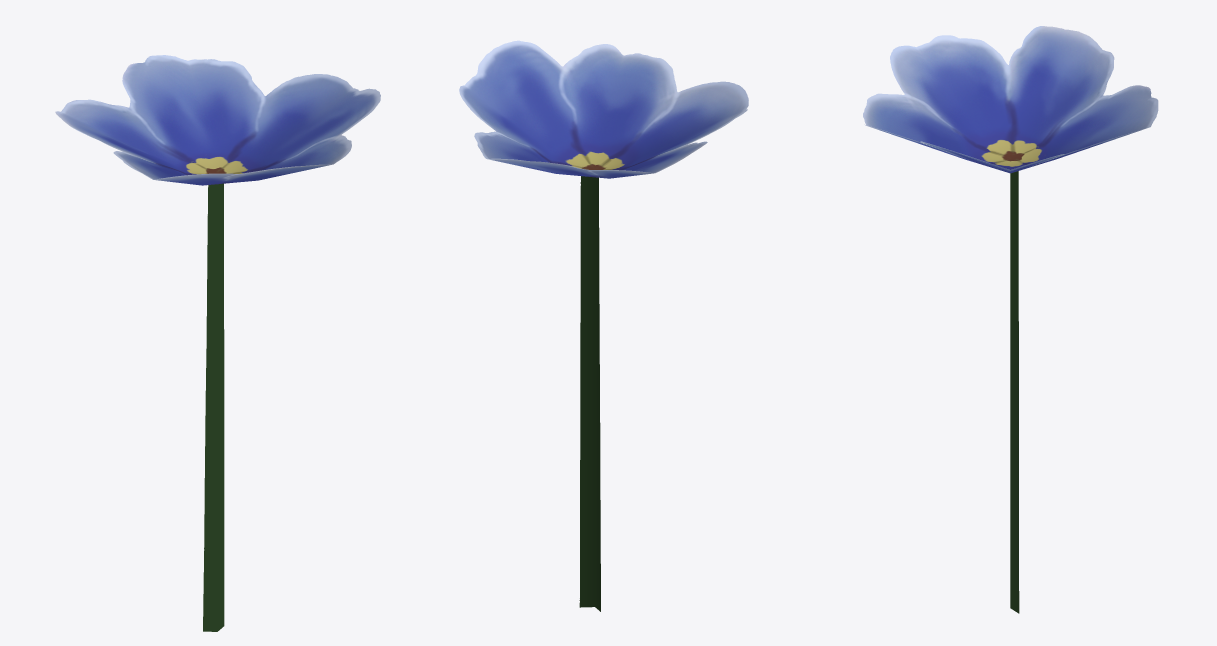
The model's file is Flower_Blue.fbx.
3 renders of one model, left to right at view 1: azimuth 30°, elevation 25°; view 2: azimuth 150°, elevation 25°; view 3: azimuth 270°, elevation 25°, orthographic. The views are drawn at different scales.
Visible parts, largest first — view 1: polySurface126; view 2: polySurface126; view 3: polySurface126.
Boxes of the visible parts, box(x1,y1,x2,y2) form: polySurface126: box(55, 55, 380, 631); polySurface126: box(459, 40, 748, 611); polySurface126: box(863, 26, 1158, 613).
Bounding box in the file's own units: 0.2347 × 0.3725 × 0.2467.
